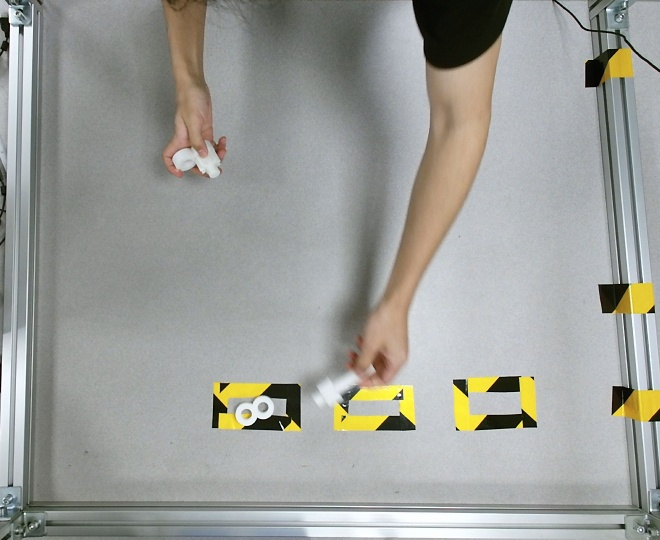stage_2: (171, 141, 221, 178)
